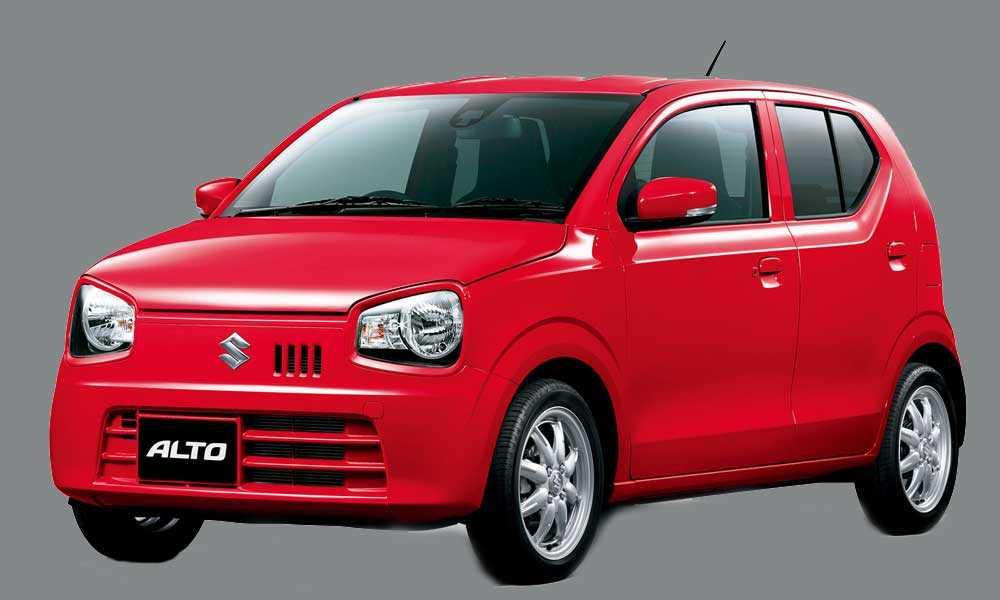windshield: (204, 92, 660, 218)
